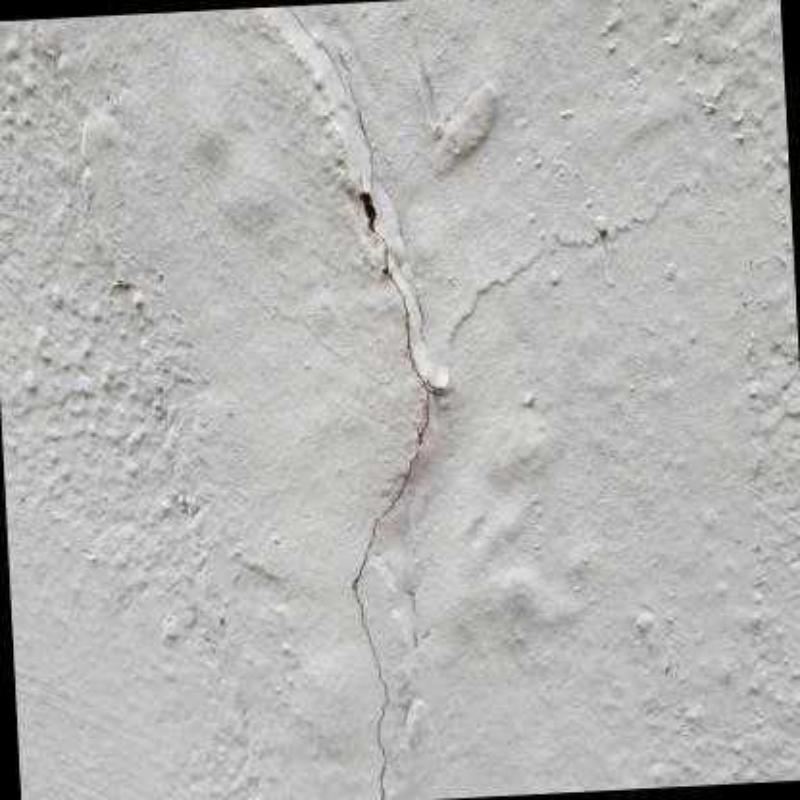pothole: (339, 46, 435, 800), (272, 5, 349, 102)
